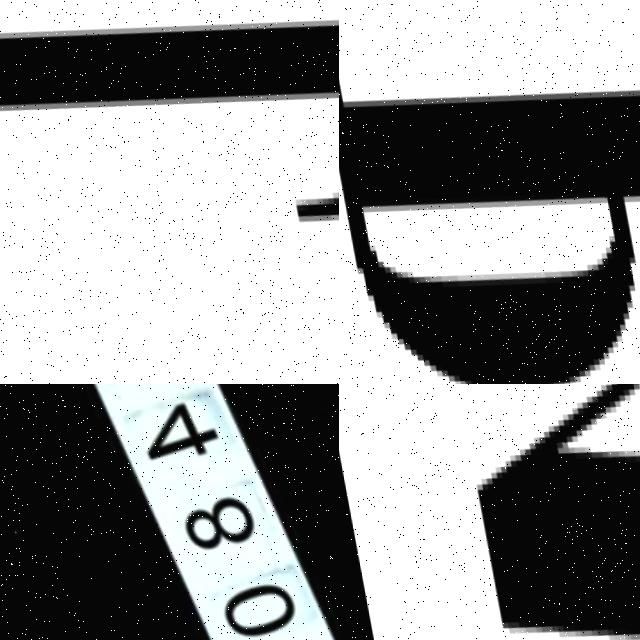0: (190, 553, 308, 640)
4: (109, 384, 235, 479)
8: (153, 469, 269, 563)
A: (396, 384, 640, 640)
L: (0, 0, 339, 271)
P: (339, 84, 640, 384)
